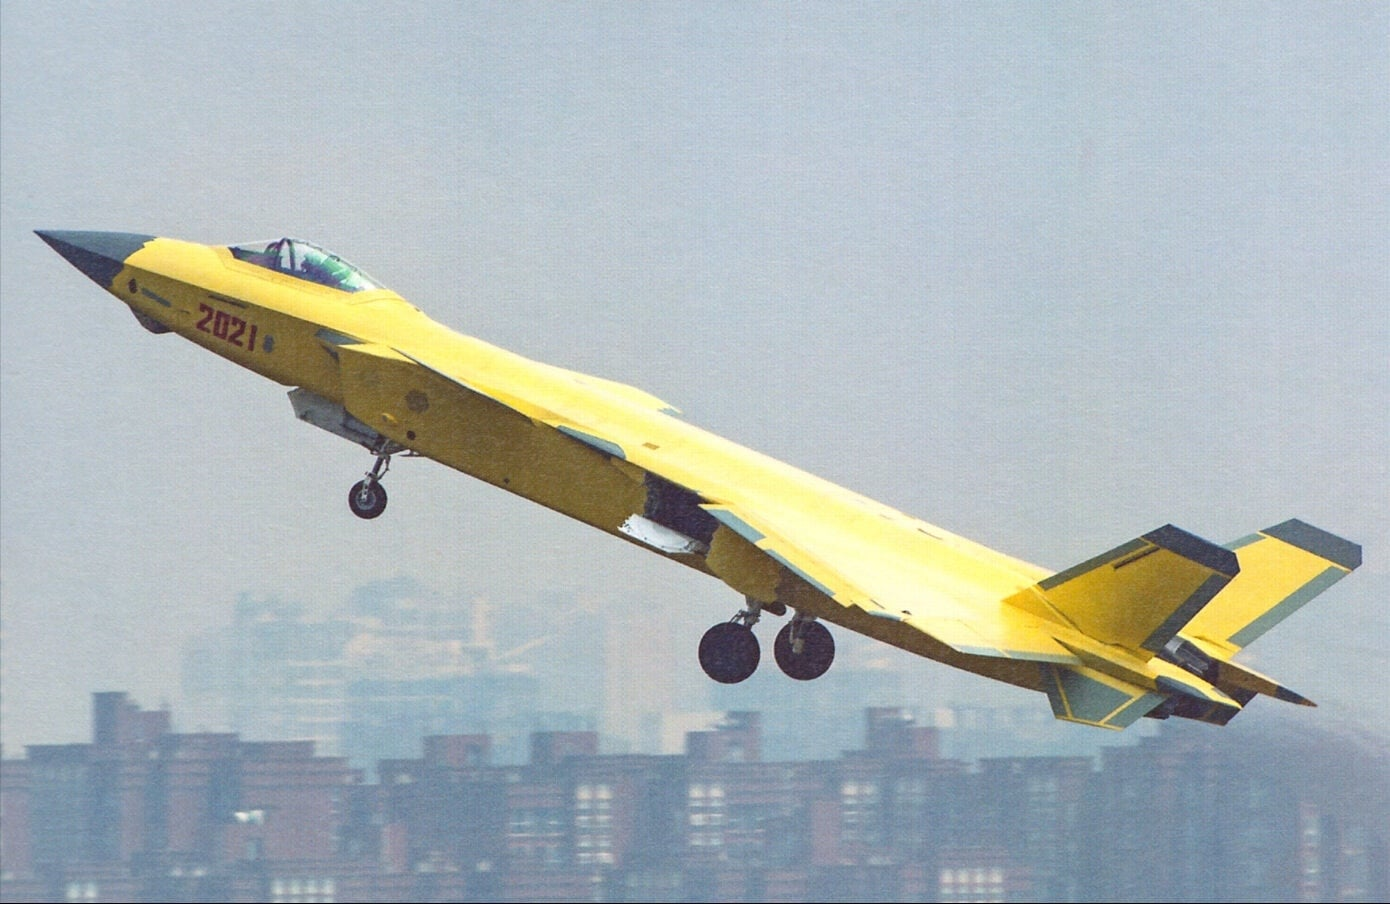J20: (32, 229, 1363, 732)
